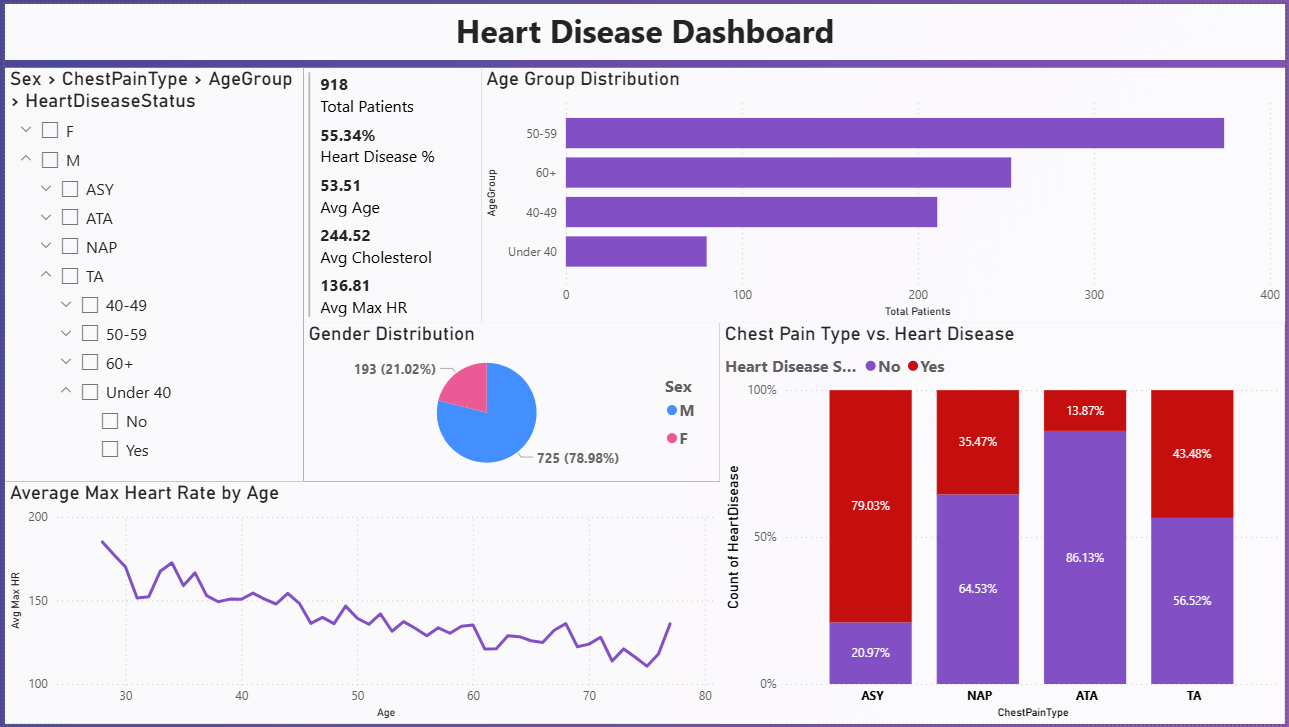

The dashboard page shown, as its layout file describes it:
{"tool":"powerbi","page":{"name":"Page 1","canvas":[1280,720],"ordinal":0},"visuals":[{"type":"multiRowCard","fields":{"Values":["df_original.Total Patients","df_original.Heart Disease %","df_original.Avg Age","df_original.Avg Cholesterol","df_original.Avg Max HR"]},"box":[298.8,63.8,177.5,255],"z":0},{"type":"textbox","box":[0,0,1280,56.2],"z":1000},{"type":"pieChart","title":"Gender Distribution","fields":{"Category":["df_original.Sex"],"Y":["df_original.Total Patients"]},"box":[298.8,318.8,416.2,158.8],"z":2000},{"type":"clusteredBarChart","title":"Age Group Distribution","fields":{"Category":["df_original.AgeGroup"],"Y":["df_original.Total Patients"]},"box":[476.2,63.8,803.8,255],"z":3000},{"type":"hundredPercentStackedColumnChart","title":"Chest Pain Type vs. Heart Disease","fields":{"Category":["df_original.ChestPainType"],"Y":["CountNonNull(df_original.HeartDisease)"],"Series":["df_original.Heart Disease Status"]},"box":[715,318.8,565,401.2],"z":4000},{"type":"lineChart","title":"Average Max Heart Rate by Age","fields":{"Category":["df_original.Age"],"Y":["df_original.Avg Max HR"]},"box":[0,477.5,715,242.5],"z":5000},{"type":"slicer","title":"Sex  >  ChestPainType >  AgeGroup > HeartDiseaseStatus","fields":{"Values":["df_original.Sex","df_original.ChestPainType","df_original.AgeGroup","df_original.Heart Disease Status"]},"box":[0,63.8,298.8,413.8],"z":8000}]}

Visuals, with their boxes in screenshot pixels (x1, y1, x2, y2), scaled from the page's 1280x720 canvas onto the 1289x727 screenshot:
multiRowCard - df_original.Total Patients x df_original.Heart Disease %: (x1=301, y1=64, x2=480, y2=322)
textbox: (x1=0, y1=0, x2=1288, y2=57)
"Gender Distribution" pieChart: (x1=301, y1=322, x2=720, y2=482)
"Age Group Distribution" clusteredBarChart: (x1=480, y1=64, x2=1288, y2=322)
"Chest Pain Type vs. Heart Disease" hundredPercentStackedColumnChart: (x1=720, y1=322, x2=1288, y2=726)
"Average Max Heart Rate by Age" lineChart: (x1=0, y1=482, x2=720, y2=726)
"Sex  >  ChestPainType >  AgeGroup > HeartDiseaseStatus" slicer: (x1=0, y1=64, x2=301, y2=482)
